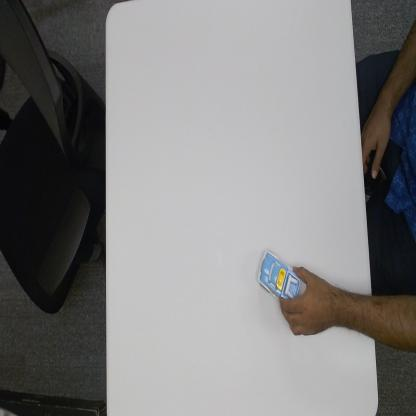Arm: (333, 286, 374, 339)
Car: (258, 248, 302, 301)
Hand: (279, 264, 333, 340)
